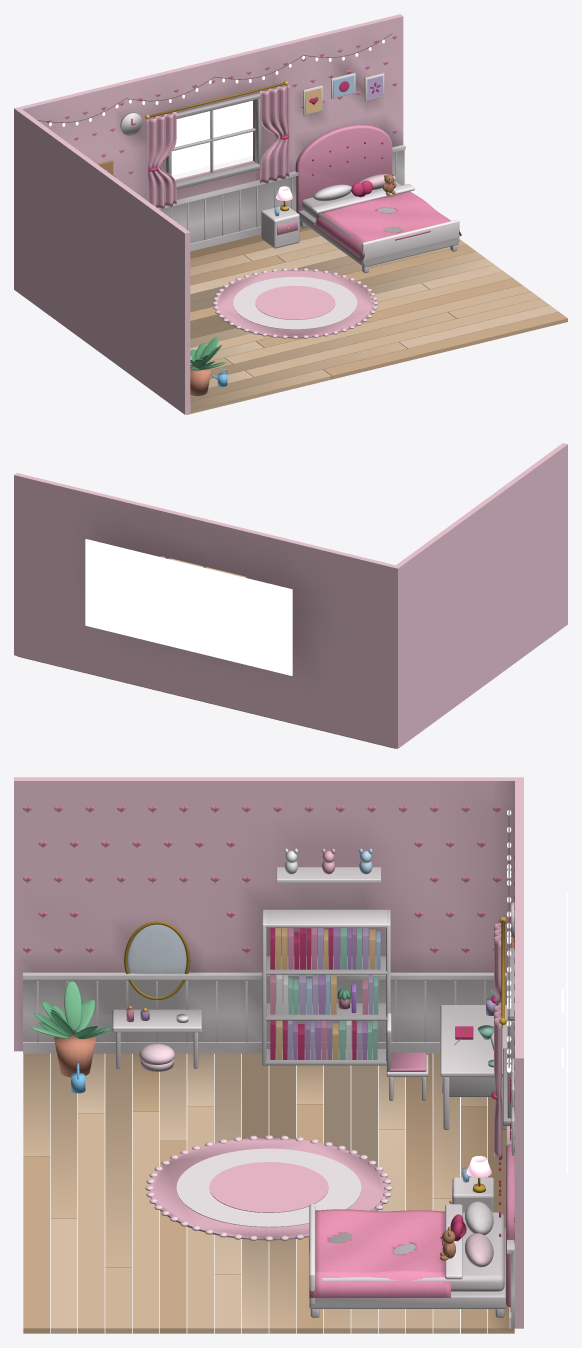
File: room.glb
3 views of the same model, one above another, from view 1: azimuth 30°, elevation 25°; view 2: azimuth 150°, elevation 25°; view 3: azimuth 270°, elevation 25° (orthographic). The views are drawn at different scales.
Parts seen in each view (by area): view 1: ParedeEsq, Piso, ParedeFundo, Tapete, Lambri, Cabeceira, Edredom, Ceu, CamaBase, Cortina1, Cortina-1, Janela (+10 smaller); view 2: ParedeFundo, ParedeEsq, Ceu, Piso; view 3: Piso, ParedeEsq, Lambri, Tapete, Livros, Edredom, Estante, ParedeFundo, Escrivaninha, CamaBase, Colchao, Espelho (+17 smaller).
Boxes of the visible parts, x1,y1,x2,y2 form: ParedeEsq: (14,107,190,414); Piso: (187,225,567,414); ParedeFundo: (19,14,403,200); Tapete: (215,269,375,338); Lambri: (157,145,405,410); Cabeceira: (295,124,392,213); Edredom: (314,191,461,259); Ceu: (171,100,252,175); CamaBase: (298,210,459,273); Cortina1: (260,84,289,183); Cortina-1: (147,112,176,208); Janela: (166,93,261,189); ParedeFundo: (14,473,395,747); ParedeEsq: (392,443,567,748); Ceu: (85,539,292,675); Piso: (17,558,395,748); Piso: (23,1053,514,1333); ParedeEsq: (14,777,523,1051); Lambri: (23,972,514,1328); Tapete: (150,1138,387,1240); Livros: (270,928,380,1059); Edredom: (309,1209,450,1297); Estante: (262,909,390,1065); ParedeFundo: (515,781,523,1328); Escrivaninha: (440,1005,506,1129); CamaBase: (309,1204,505,1317); Colchao: (321,1212,504,1291); Espelho: (127,924,186,973).
Size of the model in its own units: 4.46 by 2.04 by 3.71.
